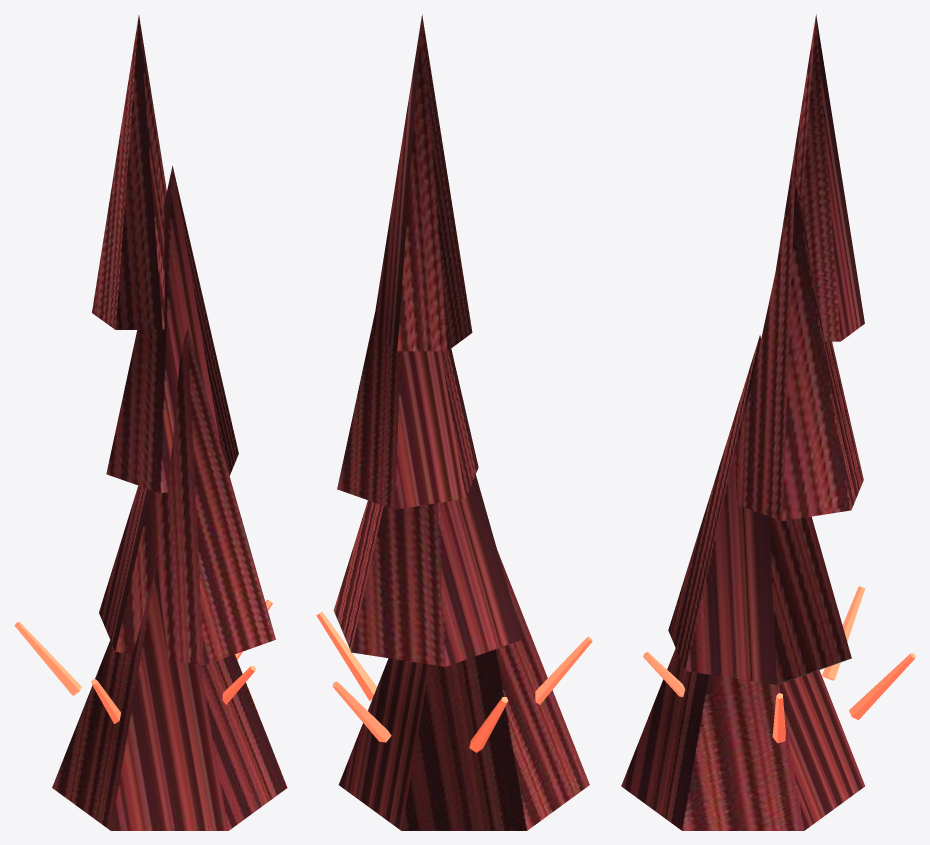
Rendered from coralSpire.glb.
The picture shows the model from 3 angles, left to right: view 1: azimuth 30°, elevation 25°; view 2: azimuth 150°, elevation 25°; view 3: azimuth 270°, elevation 25°; orthographic projection. The views are drawn at different scales.
Parts seen in each view (by area): view 1: LOD0._kind_trim_band_coral_repeat_2, LOD0._color_ff8a6a_emissive_ff5a3a_; view 2: LOD0._kind_trim_band_coral_repeat_2, LOD0._color_ff8a6a_emissive_ff5a3a_; view 3: LOD0._kind_trim_band_coral_repeat_2, LOD0._color_ff8a6a_emissive_ff5a3a_.
Boxes of the visible parts, x1,y1,x2,y2 form: LOD0._kind_trim_band_coral_repeat_2: (52,15,287,830); LOD0._color_ff8a6a_emissive_ff5a3a_: (14,599,272,723); LOD0._kind_trim_band_coral_repeat_2: (333,14,589,830); LOD0._color_ff8a6a_emissive_ff5a3a_: (316,611,592,752); LOD0._kind_trim_band_coral_repeat_2: (621,14,864,830); LOD0._color_ff8a6a_emissive_ff5a3a_: (643,586,915,743).
Size of what is drawn, in the model's own units: 21.51 by 70 by 24.14.
Materials: 2 (2 with a texture image).
